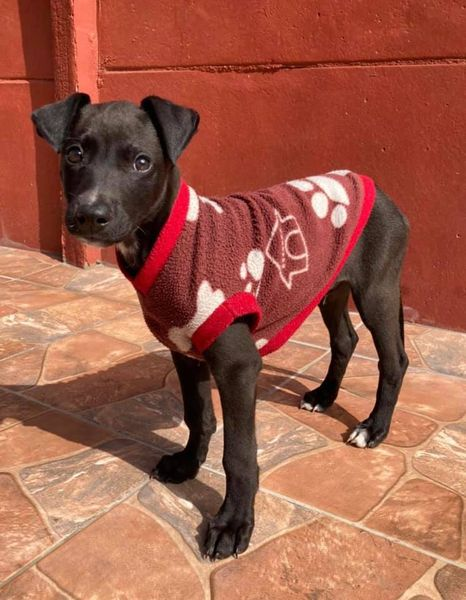dog: (29, 81, 417, 570)
